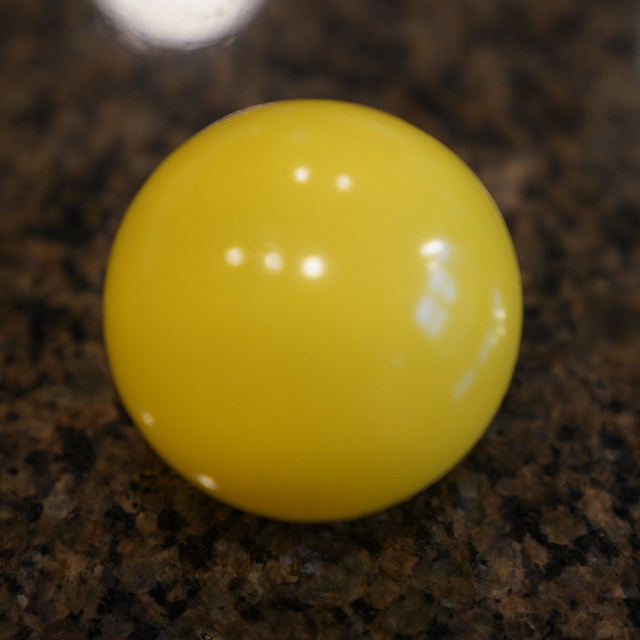Ball: (101, 101, 523, 524)
